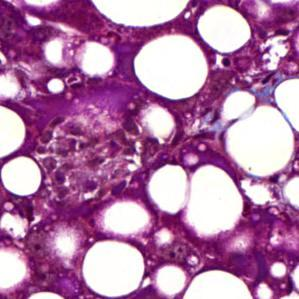steatosis: (134, 31, 213, 102), (223, 110, 296, 177), (0, 153, 45, 194)
